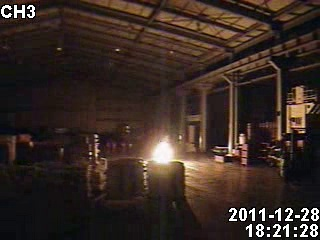fire: (152, 137, 176, 167)
